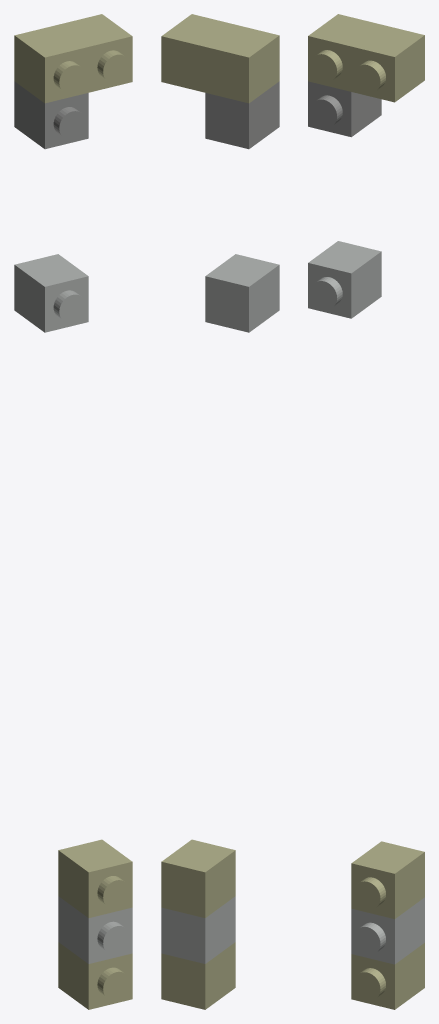
Rendered from current.glb.
3 renders of one model, left to right at view 1: azimuth 30°, elevation 25°; view 2: azimuth 150°, elevation 25°; view 3: azimuth 330°, elevation 25°, orthographic.
Parts seen in each view (by area): view 1: world; view 2: world; view 3: world.
Boxes of the visible parts, box(x1,y1,x2,y2) form: world: box(14, 14, 132, 1009); world: box(161, 14, 279, 1009); world: box(308, 14, 424, 1009).
Bounding box in the file's own units: 16 × 168 × 11.4.
